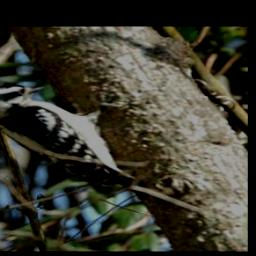Woodpecker: (0, 84, 137, 187)
